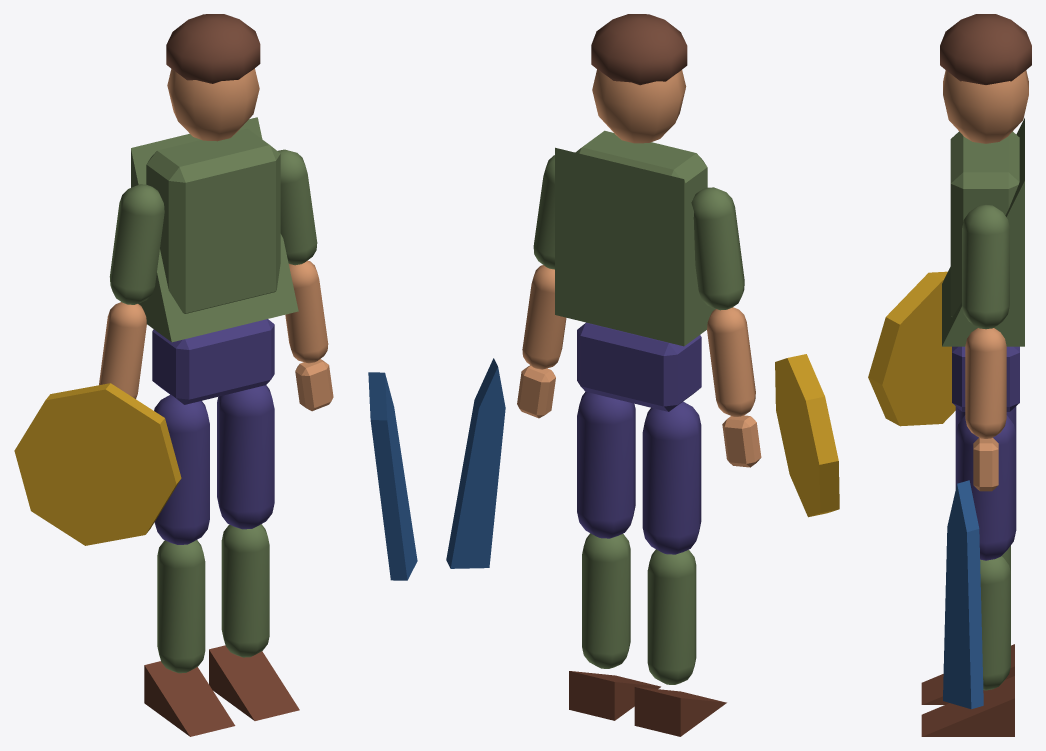
File: adventurer.rustic.glb
The picture shows the model from 3 angles, left to right: view 1: azimuth 30°, elevation 25°; view 2: azimuth 150°, elevation 25°; view 3: azimuth 270°, elevation 25°; orthographic projection.
Parts seen in each view (by area): view 1: accessory.off-hand, torso, pelvis, thigh.right, tunic, shin.right, shin.left, thigh.left, accessory.main-hand, hair, upper-arm.left, head (+6 smaller); view 2: tunic, thigh.left, pelvis, thigh.right, accessory.off-hand, accessory.main-hand, shin.left, shin.right, hair, upper-arm.left, head, forearm.left (+7 smaller); view 3: accessory.off-hand, accessory.main-hand, torso, upper-arm.right, hair, thigh.right, head, tunic, forearm.right, shin.right, foot.right, pelvis (+3 smaller).
Boxes of the visible parts, x1,y1,x2,y2 form: accessory.off-hand: (14,383,181,545); torso: (146,128,280,313); pelvis: (152,319,274,404); thigh.right: (217,385,274,529); tunic: (131,117,298,342); shin.right: (221,524,269,657); shin.left: (157,540,205,673); thigh.left: (154,394,209,544); accessory.main-hand: (368,372,417,580); hair: (166,14,260,83); upper-arm.left: (109,184,164,304); head: (167,68,259,141); tunic: (555,147,715,346); thigh.left: (642,401,701,554); pelvis: (577,322,701,411); thigh.right: (577,391,635,538); accessory.off-hand: (775,354,839,517); accessory.main-hand: (446,358,505,568); shin.left: (647,549,696,684); shin.right: (582,533,630,668); hair: (591,14,687,85); upper-arm.left: (691,187,744,310); head: (592,69,686,143); forearm.left: (707,307,755,416); accessory.off-hand: (868,271,955,426); accessory.main-hand: (943,480,983,709); torso: (950,131,1019,316); upper-arm.right: (962,204,1009,329); hair: (940,14,1031,84); thigh.right: (955,415,1016,560); head: (943,70,1028,143); tunic: (942,118,1024,346); forearm.right: (965,328,1006,438); shin.right: (980,556,1010,690); foot.right: (921,676,1014,736); pelvis: (952,346,1019,411).
Bounding box in the file's own units: 1.83 × 3.03 × 0.6513.
